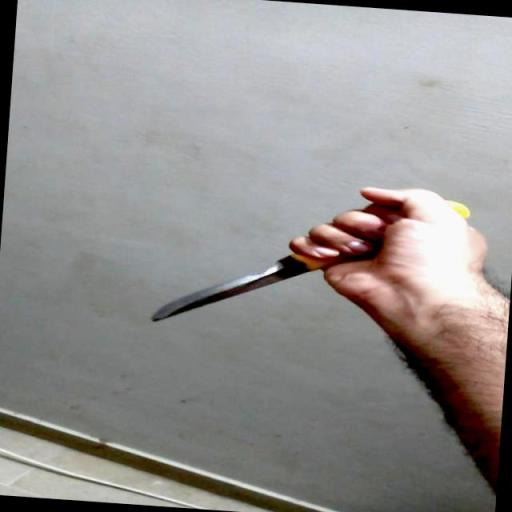knife: (148, 180, 467, 342)
